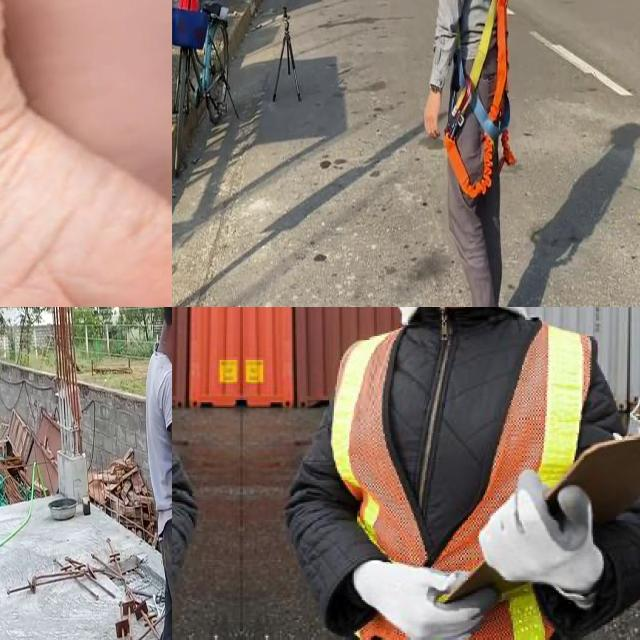Barefoots: (0, 0, 172, 307)
Harness: (445, 0, 516, 202)
hand_glove: (480, 470, 604, 595), (353, 559, 498, 640)
